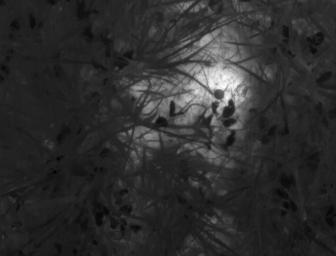landmine: (169, 42, 251, 144)
